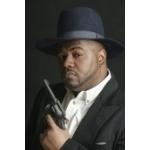Pistol: (38, 76, 70, 132)
